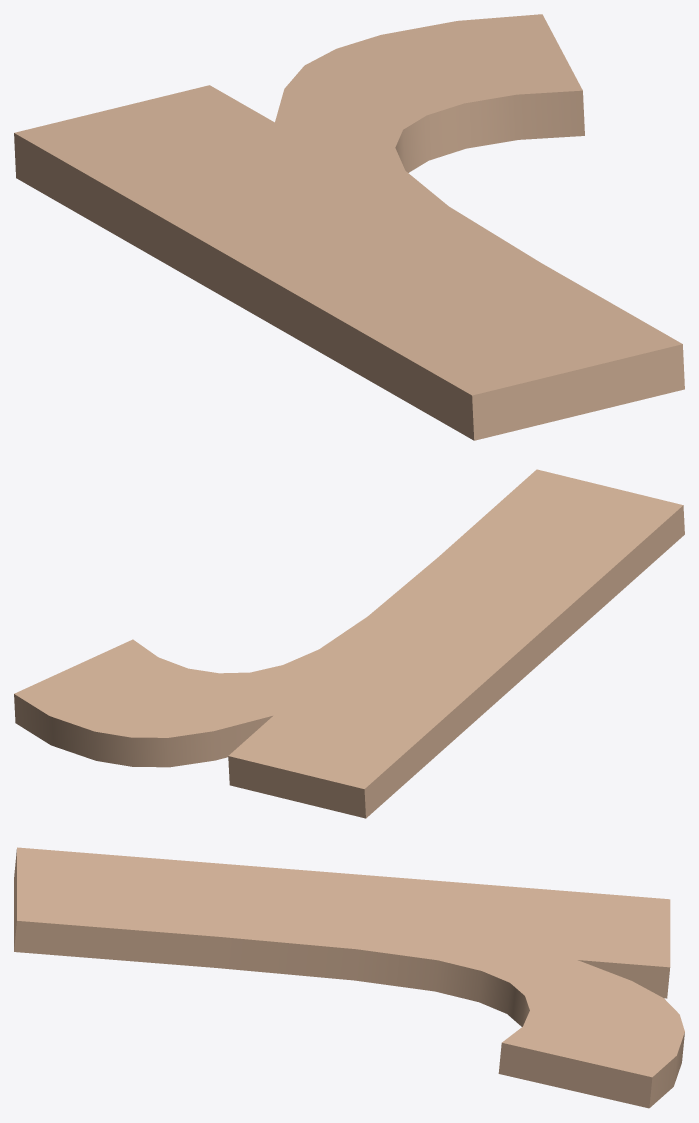
File: original-21.obj
The picture shows the model from 3 angles, top to bottom: view 1: azimuth 30°, elevation 25°; view 2: azimuth 150°, elevation 25°; view 3: azimuth 270°, elevation 25°; orthographic projection. The views are drawn at different scales.
Parts seen in each view (by area): view 1: mesh93/mesh93-geometry#mesh93-geometry; view 2: mesh93/mesh93-geometry#mesh93-geometry; view 3: mesh93/mesh93-geometry#mesh93-geometry.
Part boxes in pixels (box(x1,y1,x2,y2)): mesh93/mesh93-geometry#mesh93-geometry: box(14, 14, 684, 440); mesh93/mesh93-geometry#mesh93-geometry: box(14, 469, 684, 818); mesh93/mesh93-geometry#mesh93-geometry: box(14, 847, 684, 1108).
Bounding box in the file's own units: 0.00846 × 0.00185 × 0.0134.
